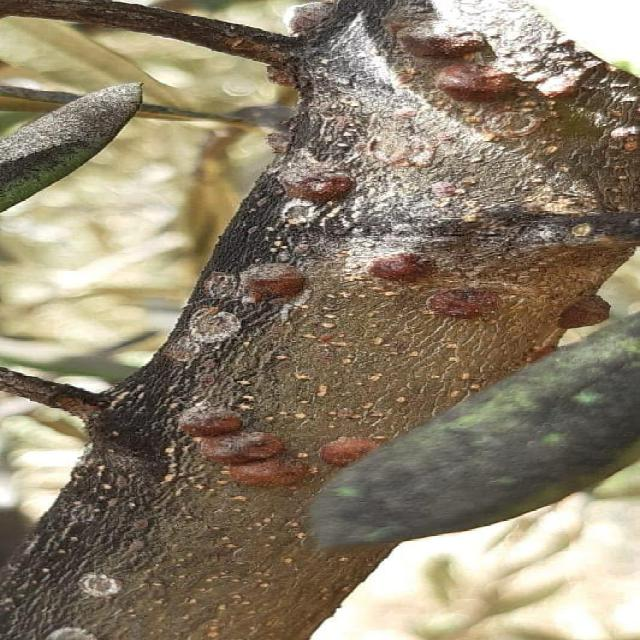Black Scale: (178, 401, 310, 486), (393, 18, 492, 62), (434, 64, 537, 103), (280, 164, 355, 203), (238, 263, 307, 303), (559, 294, 620, 330), (275, 0, 336, 36), (427, 289, 499, 319), (366, 253, 435, 283), (319, 437, 383, 467)
